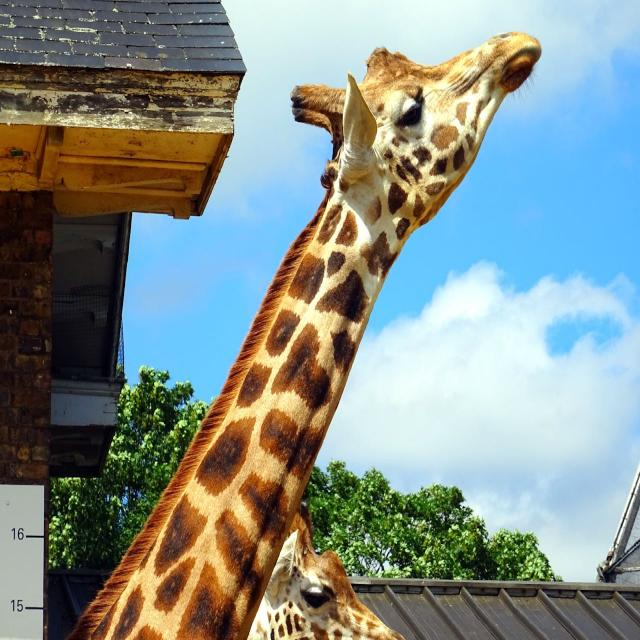Giraffe: (55, 29, 542, 640), (247, 504, 407, 640)
